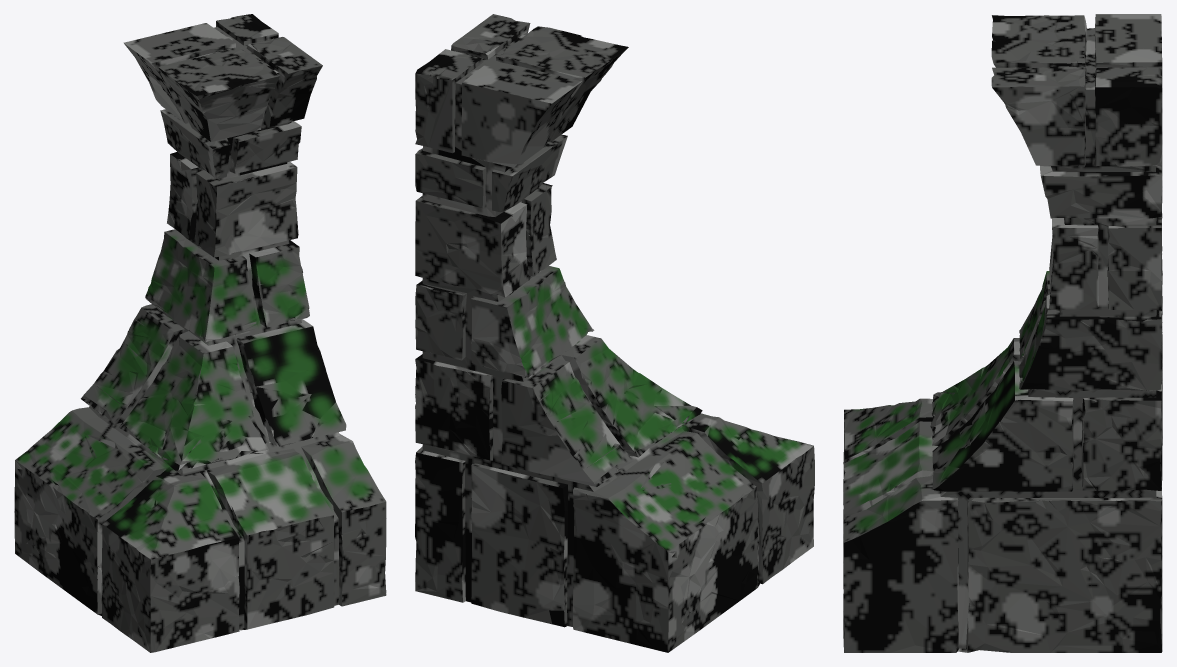
Rendered from corner_convex.fbx.
3 views of the same model, side by side, from view 1: azimuth 30°, elevation 25°; view 2: azimuth 150°, elevation 25°; view 3: azimuth 270°, elevation 25° (orthographic). The views are drawn at different scales.
Visible parts, largest first — view 1: Sewer Corner Convex; view 2: Sewer Corner Convex; view 3: Sewer Corner Convex.
Boxes of the visible parts, left/top/right/bottom form: Sewer Corner Convex: left=14, top=14, right=386, bottom=652; Sewer Corner Convex: left=415, top=14, right=814, bottom=652; Sewer Corner Convex: left=843, top=14, right=1162, bottom=652.
Size of the model in its own units: 2500 by 4914 by 2501.
1 material, 1 textured.
